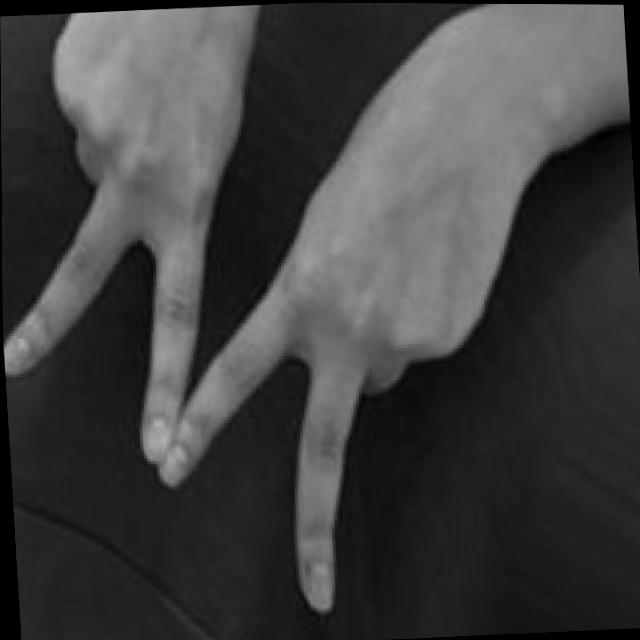M: (0, 0, 640, 629)
